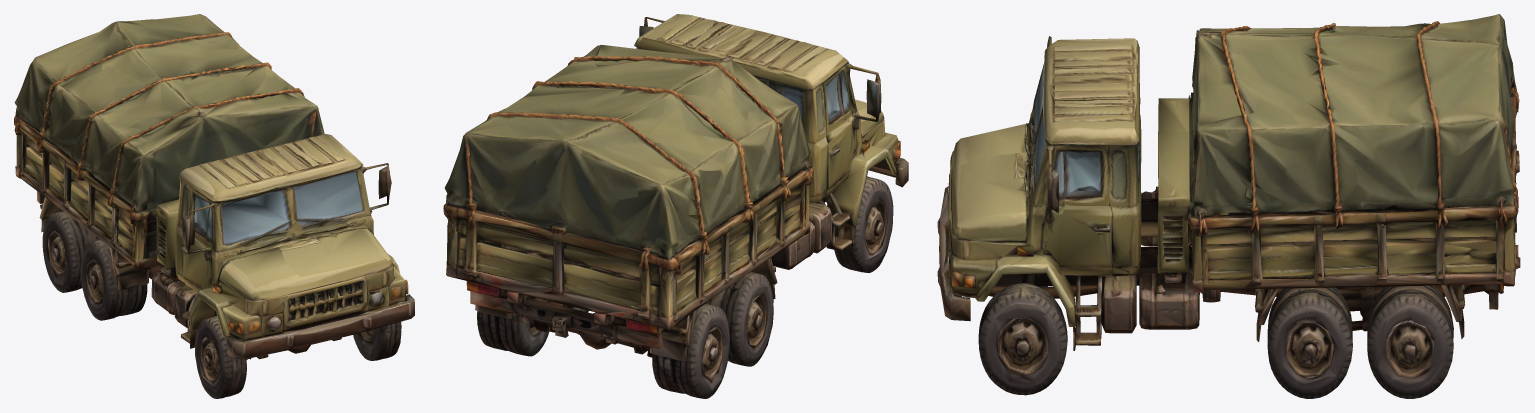
The model's file is truck.glb.
3 views of the same model, side by side, from view 1: azimuth 30°, elevation 25°; view 2: azimuth 150°, elevation 25°; view 3: azimuth 270°, elevation 25° (orthographic). The views are drawn at different scales.
Visible parts, largest first — view 1: TripoTruck_Mesh; view 2: TripoTruck_Mesh; view 3: TripoTruck_Mesh.
Part boxes in pixels (x1,y1,x2,y2): TripoTruck_Mesh: [14, 14, 414, 398]; TripoTruck_Mesh: [443, 14, 908, 398]; TripoTruck_Mesh: [937, 14, 1520, 398].
Size of the model in its own units: 2.7 by 2.8 by 5.
1 material, 1 textured.
